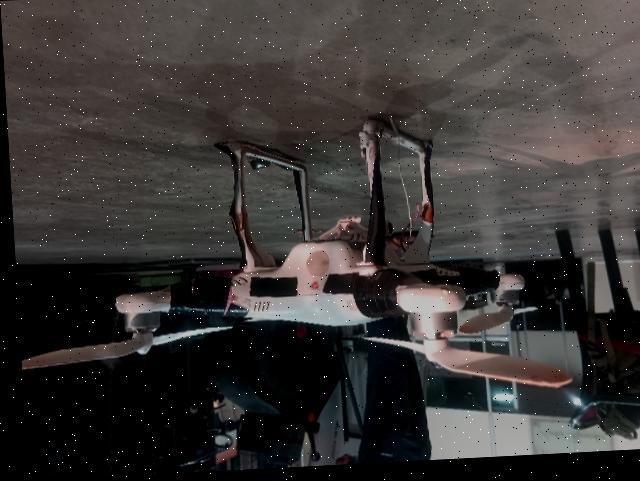drone: (6, 92, 589, 415)
